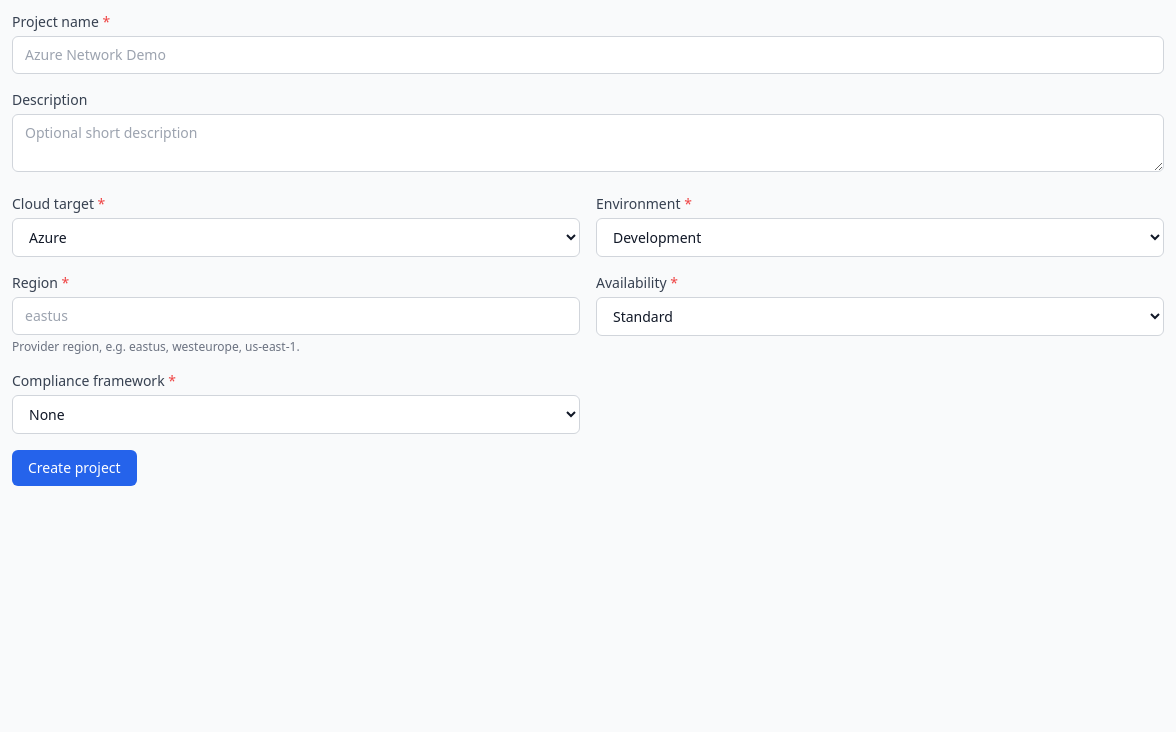
Test: ProjectForm › shows required-field errors and does not submit when empty
This screenshot has width=1176, height=732.
Click the button "Create project": (74, 468) [12,450,137,486]
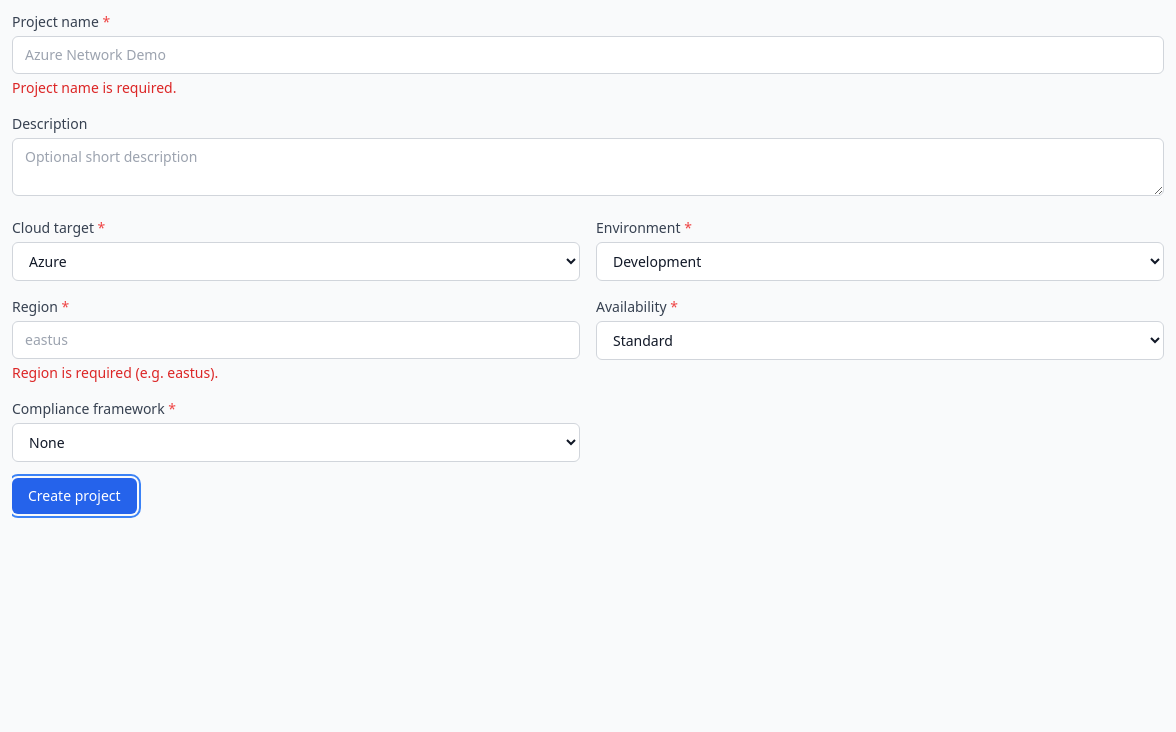
Check: the text "Project name is required." is shown, box [12,78,176,97]
Check: the text "Region is required (e.g. eastus)." is shown, box [12,363,218,382]
